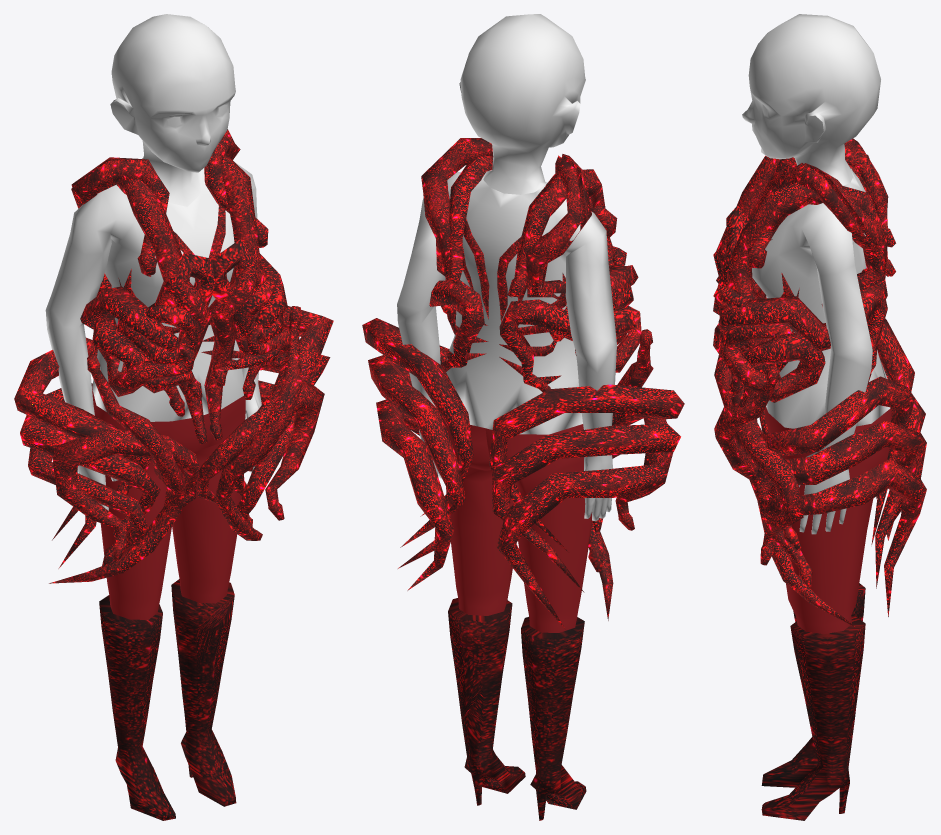
File: snake.glb
3 renders of one model, left to right at view 1: azimuth 30°, elevation 25°; view 2: azimuth 150°, elevation 25°; view 3: azimuth 270°, elevation 25°, orthographic.
Visible parts, largest first — view 1: F_lBody_BaseMesh.002; view 2: F_lBody_BaseMesh.002; view 3: F_lBody_BaseMesh.002.
Boxes of the visible parts, x1,y1,x2,y2 form: F_lBody_BaseMesh.002: (14, 14, 333, 820); F_lBody_BaseMesh.002: (362, 14, 684, 820); F_lBody_BaseMesh.002: (713, 14, 926, 820).
Bounding box in the file's own units: 1.98 × 4.59 × 1.14.
2 materials, 1 textured.
